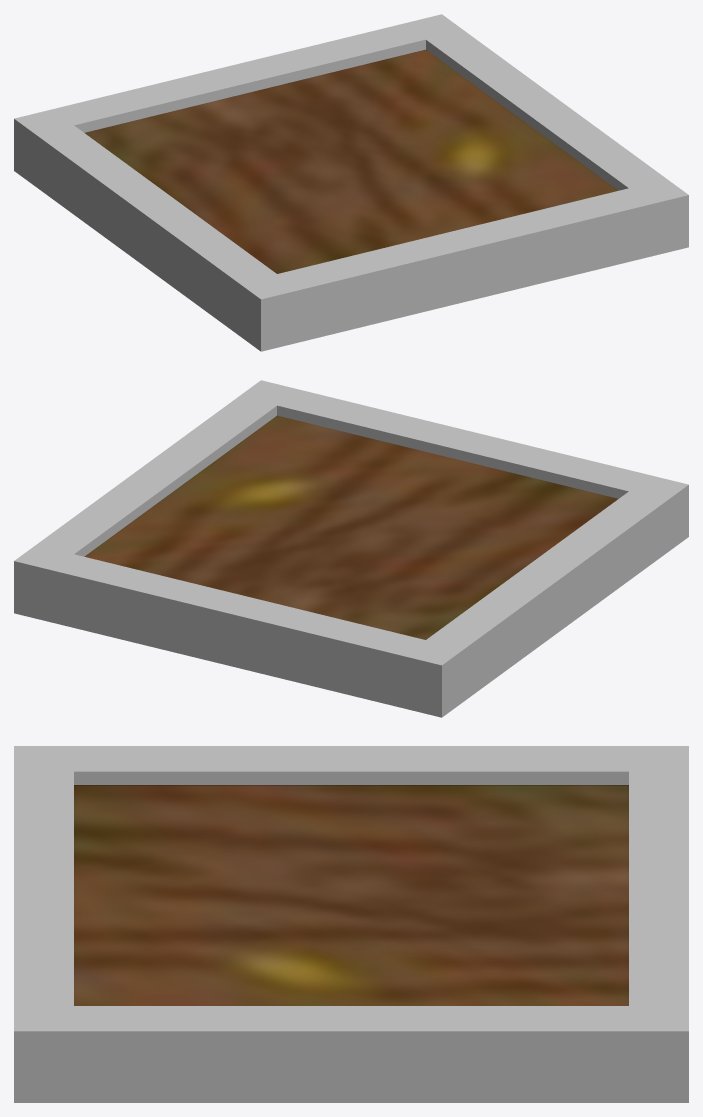
The model's file is trapdoor.fbx.
The picture shows the model from 3 angles, top to bottom: view 1: azimuth 30°, elevation 25°; view 2: azimuth 150°, elevation 25°; view 3: azimuth 270°, elevation 25°; orthographic projection. The views are drawn at different scales.
Visible parts, largest first — view 1: Cube, Cube.001; view 2: Cube, Cube.001; view 3: Cube.001, Cube.
Boxes of the visible parts, x1=… form: Cube: x1=14, y1=14, x2=688, y2=351; Cube.001: x1=85, y1=49, x2=618, y2=273; Cube: x1=14, y1=380, x2=688, y2=717; Cube.001: x1=84, y1=415, x2=617, y2=639; Cube.001: x1=74, y1=785, x2=628, y2=1005; Cube: x1=14, y1=746, x2=688, y2=1102.
Size of the model in its own units: 200 by 23.38 by 200.
